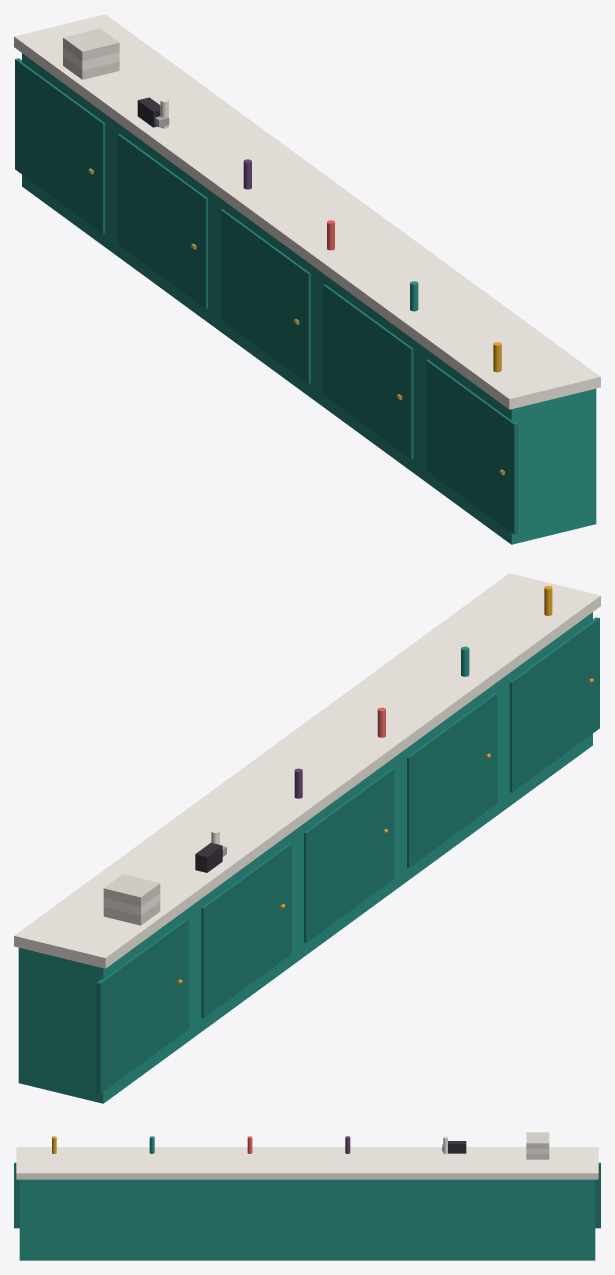
The model's file is barber_counter_unit.glb.
The picture shows the model from 3 angles, top to bottom: view 1: azimuth 30°, elevation 25°; view 2: azimuth 150°, elevation 25°; view 3: azimuth 270°, elevation 25°; orthographic projection. The views are drawn at different scales.
Parts seen in each view (by area): view 1: counter_top, base_cabinet, door_inset_0, door_inset_4, door_inset_3, door_inset_1, door_inset_2, towel_2; view 2: counter_top, base_cabinet, door_inset_4, door_inset_0, door_inset_1, door_inset_2, door_inset_3, towel_2; view 3: base_cabinet, counter_top, towel_2, door_inset_0, door_inset_4, clipper.
Part boxes in pixels (x1=…): counter_top: x1=14, y1=14, x2=600, y2=409; base_cabinet: x1=22, y1=53, x2=596, y2=544; door_inset_0: x1=426, y1=359, x2=518, y2=534; door_inset_4: x1=15, y1=58, x2=105, y2=233; door_inset_3: x1=117, y1=134, x2=207, y2=308; door_inset_1: x1=323, y1=284, x2=413, y2=459; door_inset_2: x1=220, y1=209, x2=310, y2=383; towel_2: x1=63, y1=28, x2=119, y2=61; counter_top: x1=14, y1=573, x2=600, y2=968; base_cabinet: x1=18, y1=612, x2=592, y2=1103; door_inset_4: x1=96, y1=918, x2=188, y2=1093; door_inset_0: x1=509, y1=617, x2=599, y2=792; door_inset_1: x1=407, y1=693, x2=497, y2=867; door_inset_2: x1=304, y1=768, x2=394, y2=942; door_inset_3: x1=201, y1=843, x2=291, y2=1018; towel_2: x1=103, y1=874, x2=160, y2=906; base_cabinet: x1=19, y1=1179, x2=595, y2=1260; counter_top: x1=16, y1=1147, x2=598, y2=1179; towel_2: x1=526, y1=1132, x2=549, y2=1148; door_inset_0: x1=14, y1=1162, x2=19, y2=1228; door_inset_4: x1=595, y1=1162, x2=600, y2=1228; clipper: x1=448, y1=1141, x2=466, y2=1153.
Size of the model in its own units: 0.541 by 0.999 by 5.1.
